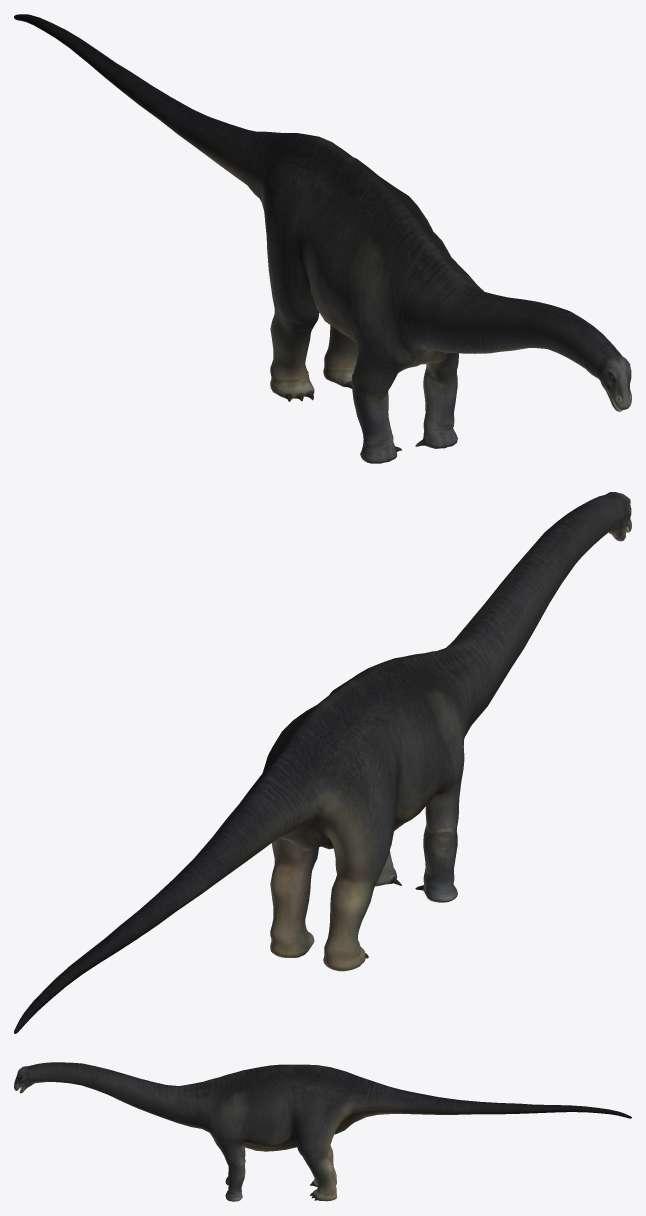
Rendered from apatosaurus.obj.
The picture shows the model from 3 angles, top to bottom: view 1: azimuth 30°, elevation 25°; view 2: azimuth 150°, elevation 25°; view 3: azimuth 270°, elevation 25°; orthographic projection. The views are drawn at different scales.
Parts seen in each view (by area): view 1: Apatosaurus Apatosaurus_LowPoly; view 2: Apatosaurus Apatosaurus_LowPoly; view 3: Apatosaurus Apatosaurus_LowPoly.
Part boxes in pixels (box(x1,y1,x2,y2)): Apatosaurus Apatosaurus_LowPoly: box(14, 14, 631, 463); Apatosaurus Apatosaurus_LowPoly: box(14, 492, 631, 1033); Apatosaurus Apatosaurus_LowPoly: box(14, 1062, 631, 1201).
Bounding box in the file's own units: 3.71 × 8.2 × 35.54.
Materials: 2 (1 with a texture image).
